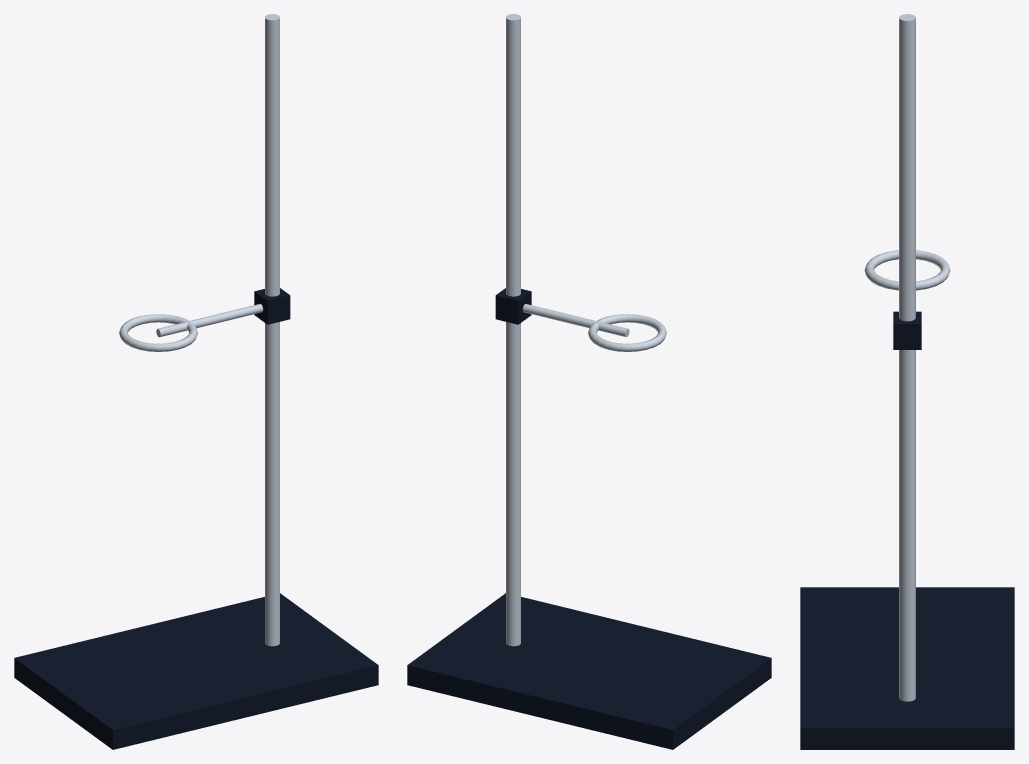
File: lab-stand.glb
3 renders of one model, left to right at view 1: azimuth 30°, elevation 25°; view 2: azimuth 150°, elevation 25°; view 3: azimuth 270°, elevation 25°, orthographic. The views are drawn at different scales.
Visible parts, largest first — view 1: LabStand; view 2: LabStand; view 3: LabStand.
Boxes of the visible parts, <box> form: LabStand: <box>14,14,378,749</box>; LabStand: <box>407,14,771,749</box>; LabStand: <box>800,14,1014,749</box>.
Size of the model in its own units: 1.4 by 3.25 by 0.9.
